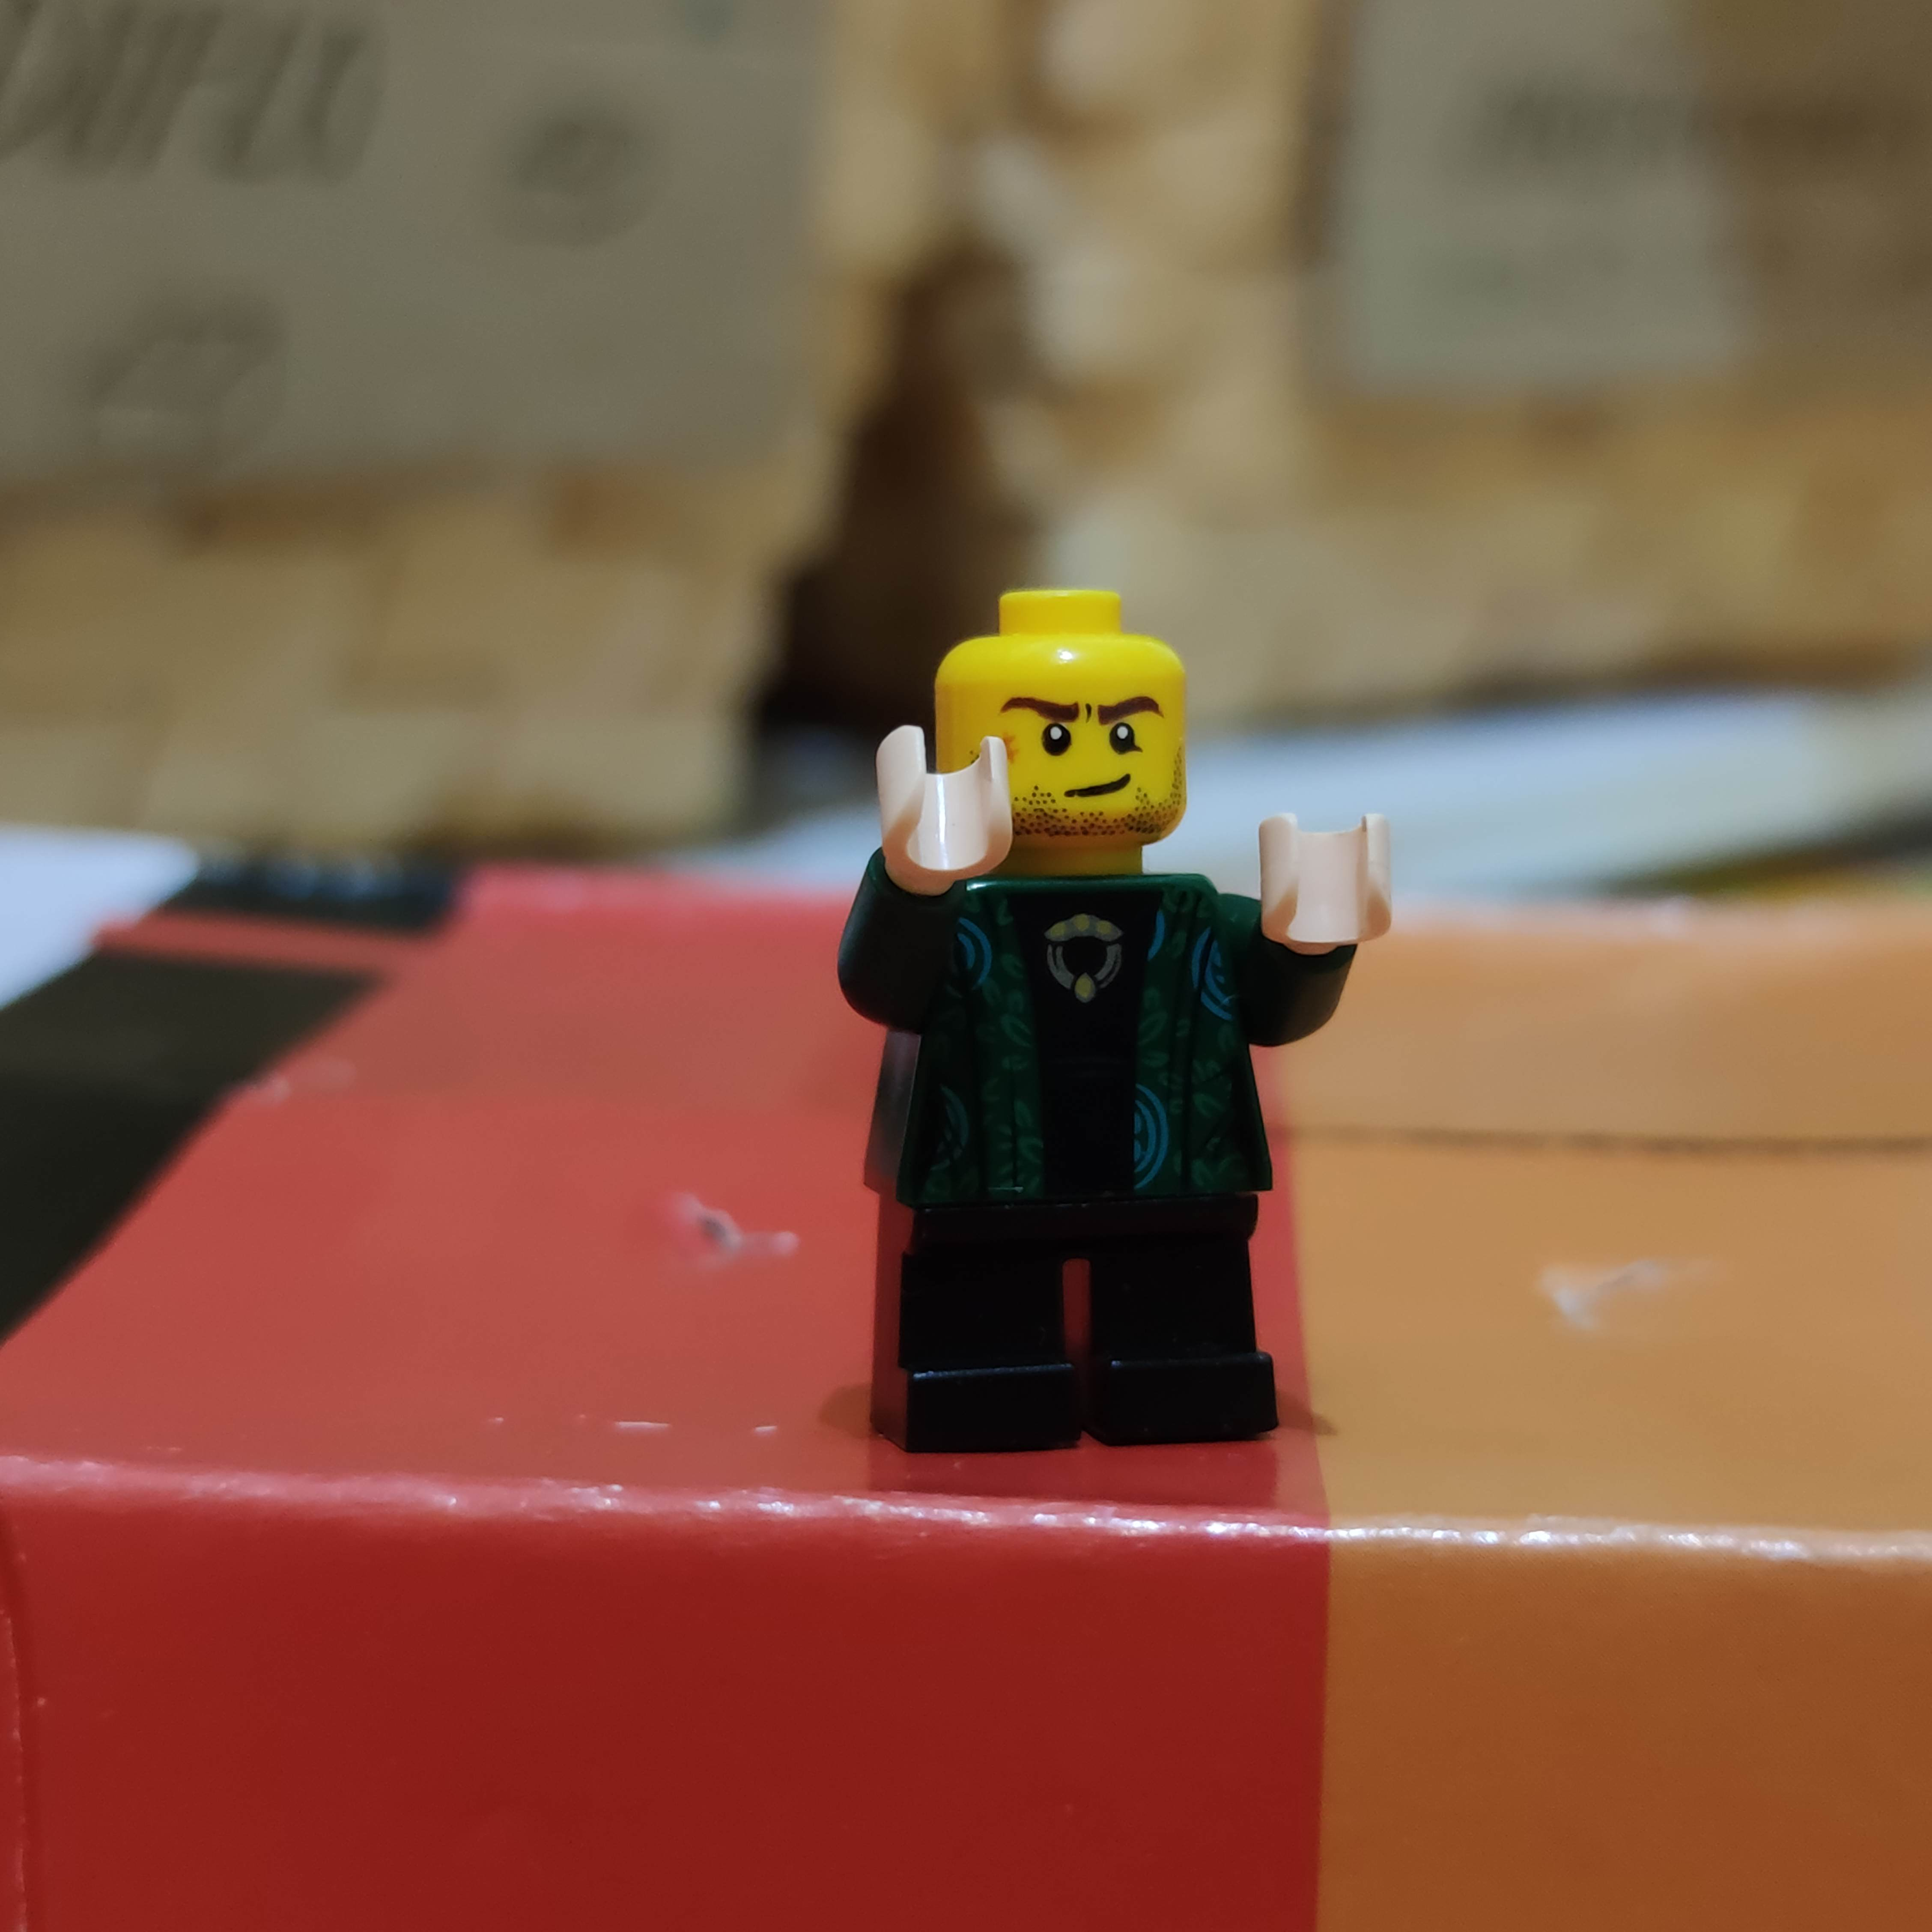lego: (828, 584, 1405, 1447)
